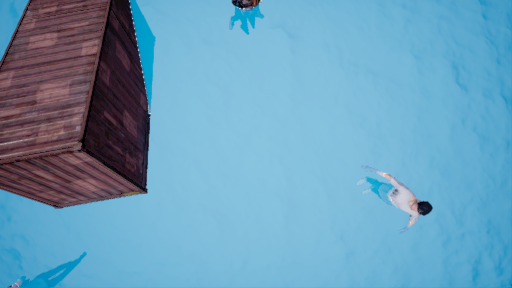person: (352, 163, 440, 235)
